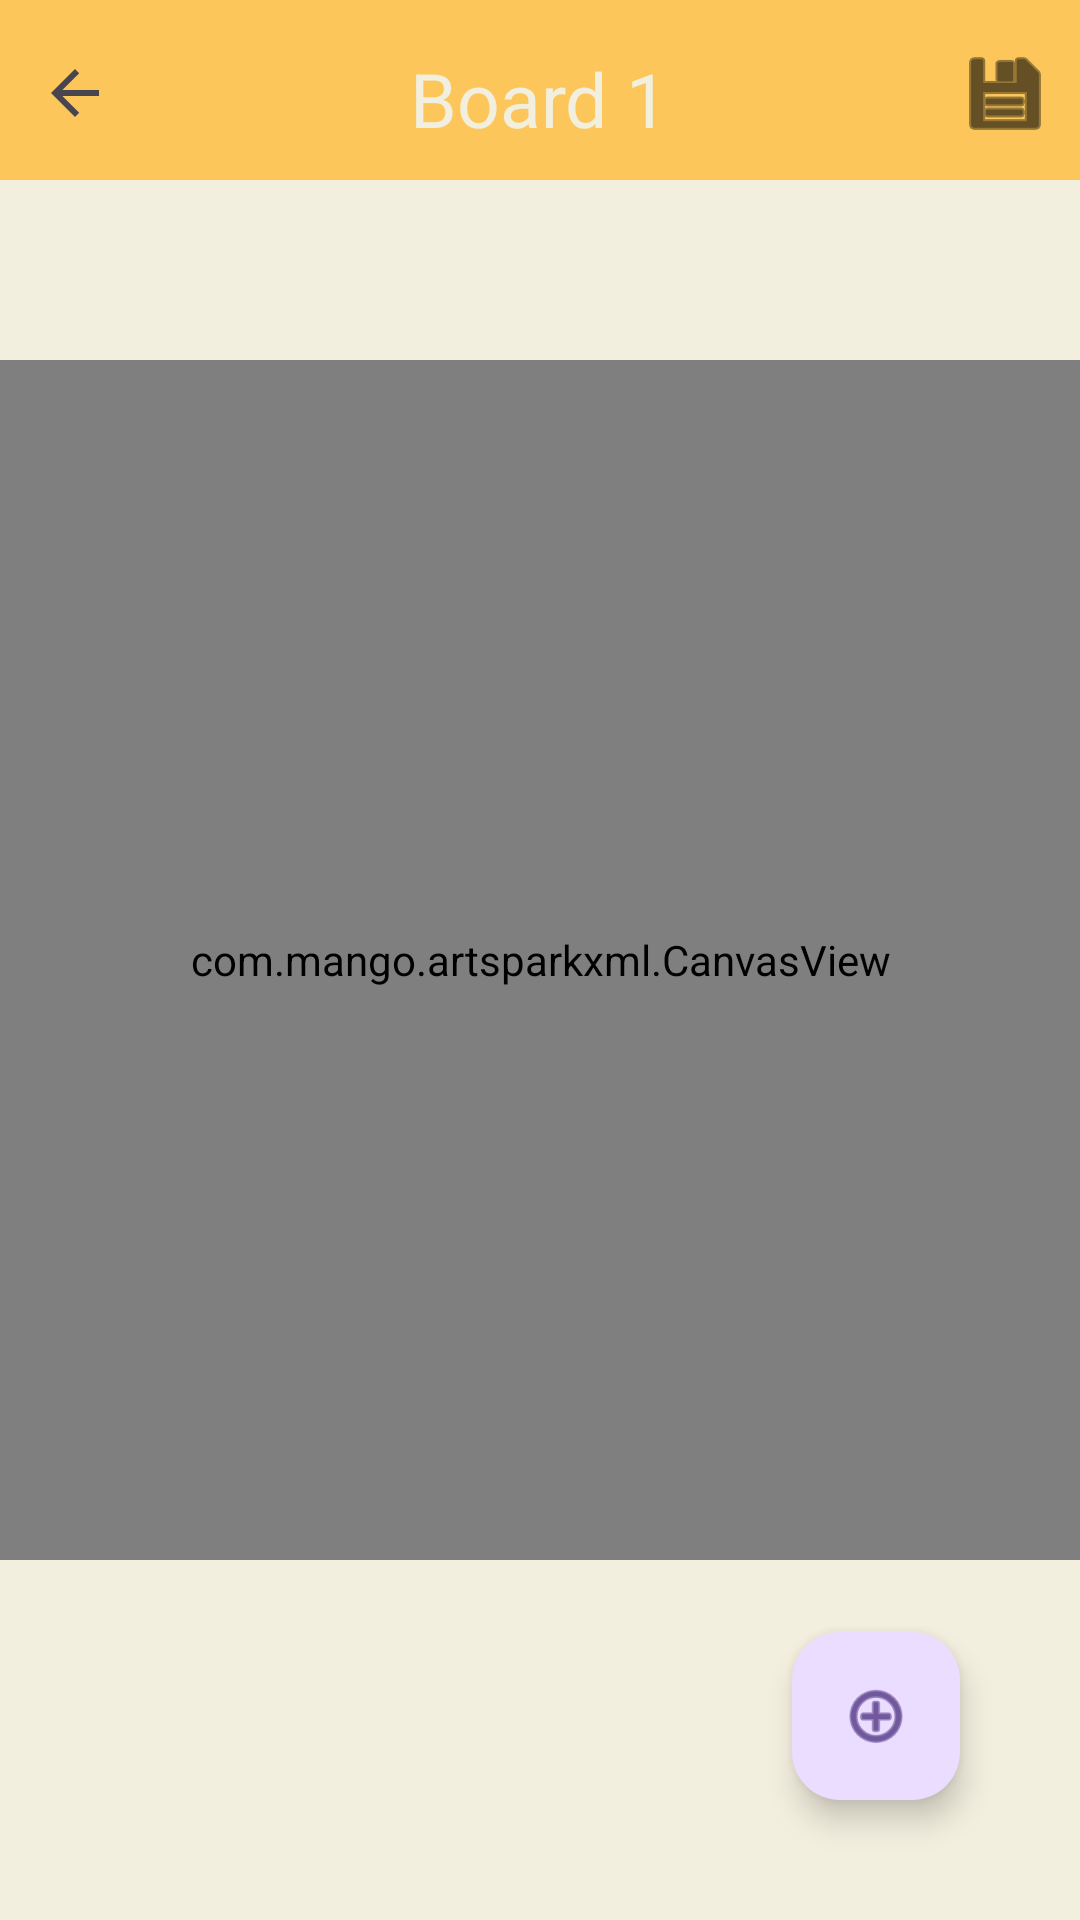

Screen size 1080 × 1920. Icon name, then its center in pixels as (x,y):
add: (876,1716)
save: (1005,93)
